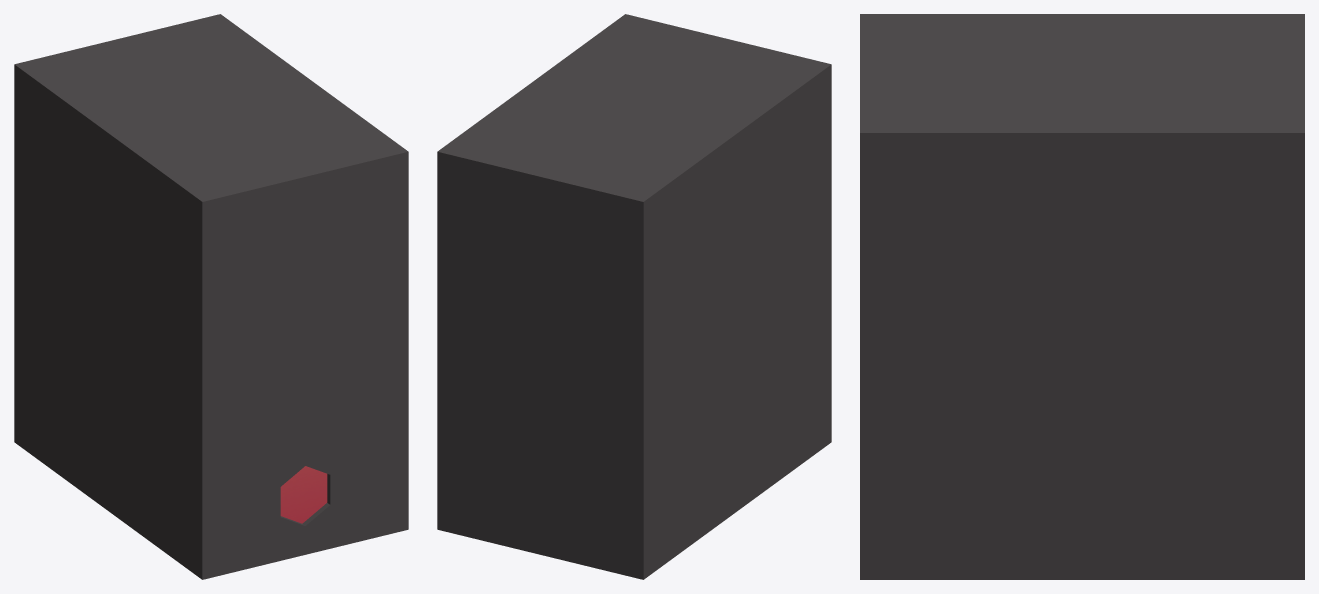
File: SM_Computer_1_01.fbx
3 renders of one model, left to right at view 1: azimuth 30°, elevation 25°; view 2: azimuth 150°, elevation 25°; view 3: azimuth 270°, elevation 25°, orthographic. The views are drawn at different scales.
Visible parts, largest first — view 1: SM_Computer_1_01; view 2: SM_Computer_1_01; view 3: SM_Computer_1_01.
Boxes of the visible parts, x1=… form: SM_Computer_1_01: x1=14, y1=14, x2=408, y2=579; SM_Computer_1_01: x1=437, y1=14, x2=831, y2=579; SM_Computer_1_01: x1=860, y1=14, x2=1304, y2=579.
Bounding box in the file's own units: 21.06 × 36.89 × 33.28.
